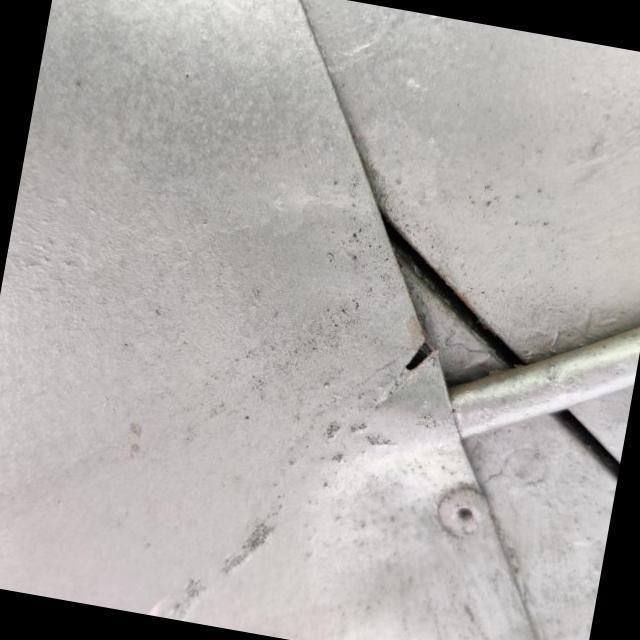Rupture: (380, 320, 459, 394)
